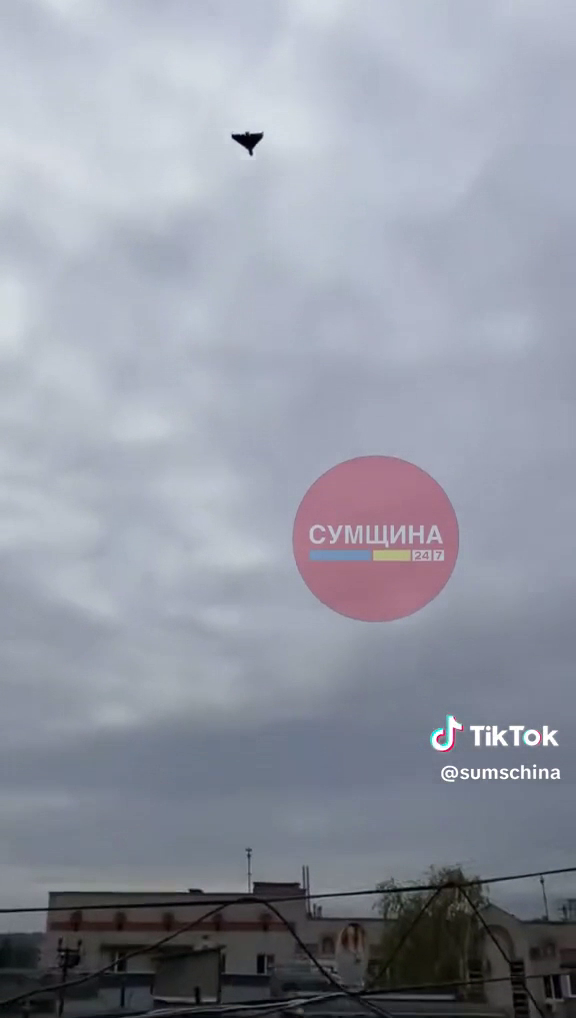shahed: (223, 125, 268, 162)
